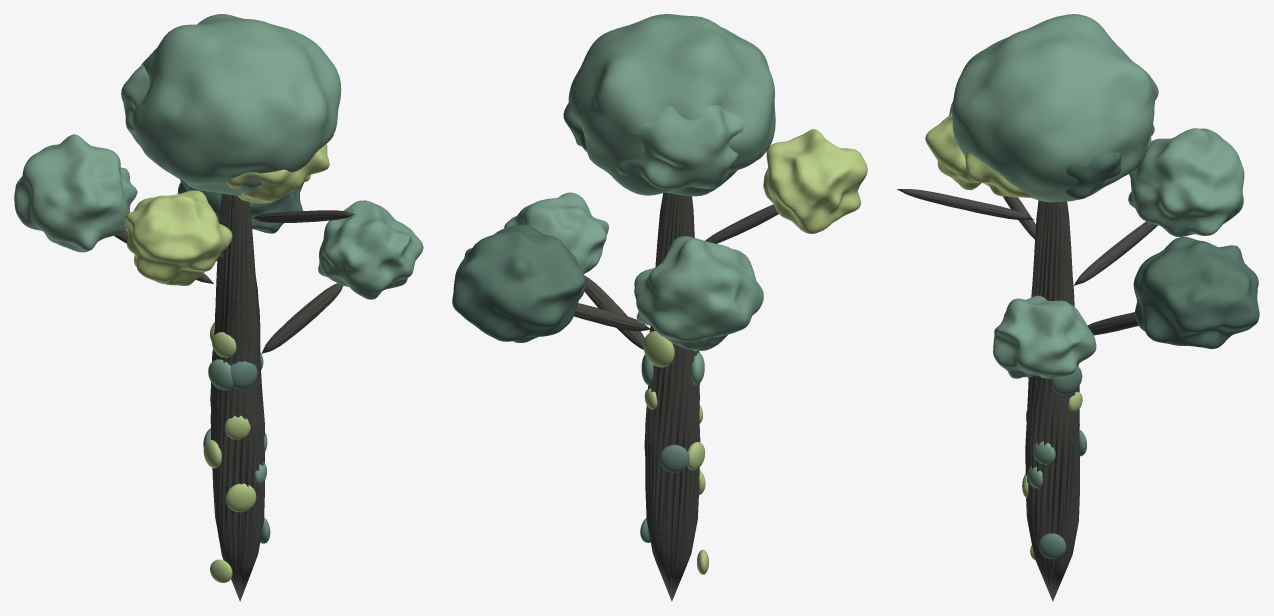
Rendered from gnarled_tree.glb.
3 renders of one model, left to right at view 1: azimuth 30°, elevation 25°; view 2: azimuth 150°, elevation 25°; view 3: azimuth 270°, elevation 25°, orthographic. The views are drawn at different scales.
Parts seen in each view (by area): view 1: GnarledTree; view 2: GnarledTree; view 3: GnarledTree.
Boxes of the visible parts, <box> form: GnarledTree: <box>14,14,423,601</box>; GnarledTree: <box>452,14,867,601</box>; GnarledTree: <box>897,14,1259,601</box>.
Bounding box in the file's own units: 5.61 × 9.7 × 5.64.
